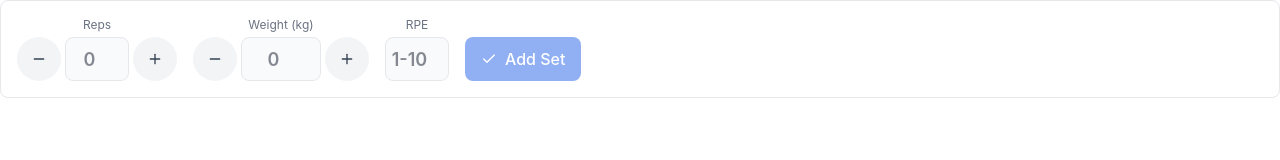
Test: SetInput › should clamp RPE between 1 and 10
Type "15" into the number field named "RPE (Rate of Perceived Exertion)". click: (417, 59)
box: left=385, top=37, right=449, bottom=81
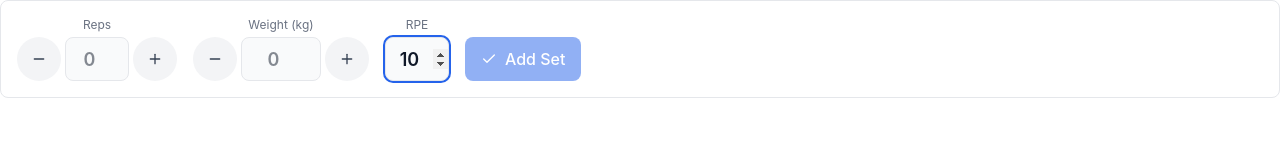
expect the number field named "RPE (Rate of Perceived Exertion)" holds "10": met, box left=385, top=37, right=449, bottom=81
